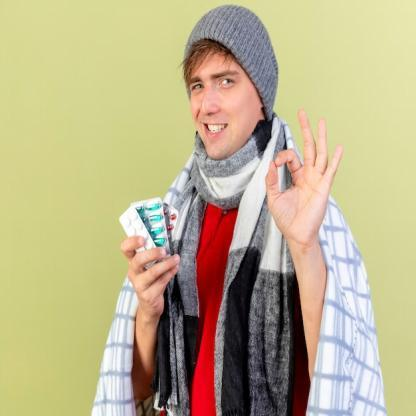ok: (262, 107, 346, 250)
